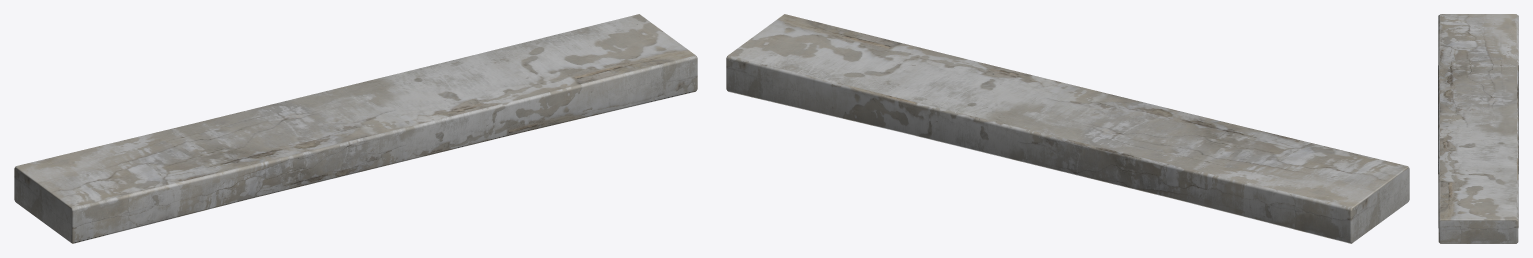
File: sm_Wall_06_37_Cornice.fbx
The picture shows the model from 3 angles, left to right: view 1: azimuth 30°, elevation 25°; view 2: azimuth 150°, elevation 25°; view 3: azimuth 270°, elevation 25°; orthographic projection. The views are drawn at different scales.
Parts seen in each view (by area): view 1: sm_Wall_06_37_Cornice_LOD0; view 2: sm_Wall_06_37_Cornice_LOD0; view 3: sm_Wall_06_37_Cornice_LOD0.
Part boxes in pixels (x1=…): sm_Wall_06_37_Cornice_LOD0: x1=14, y1=14, x2=697, y2=243; sm_Wall_06_37_Cornice_LOD0: x1=726, y1=14, x2=1409, y2=243; sm_Wall_06_37_Cornice_LOD0: x1=1438, y1=14, x2=1518, y2=243.
Bounding box in the file's own units: 66.53 × 402 × 22.47.
